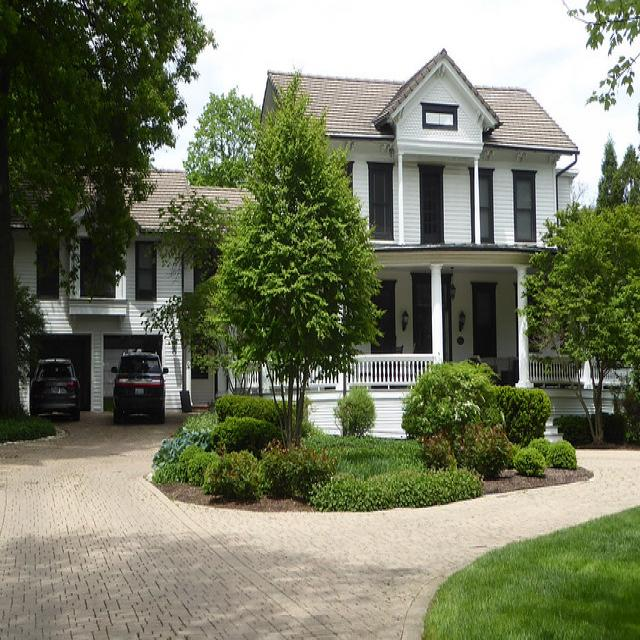Normal_building: (254, 47, 590, 437), (13, 152, 258, 418)
